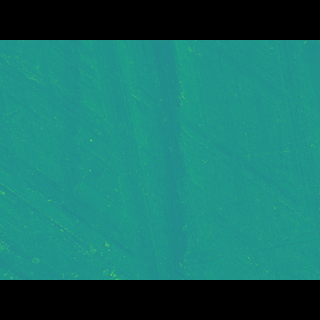Loch: (91, 69, 208, 249), (45, 211, 319, 251), (33, 69, 92, 228)
